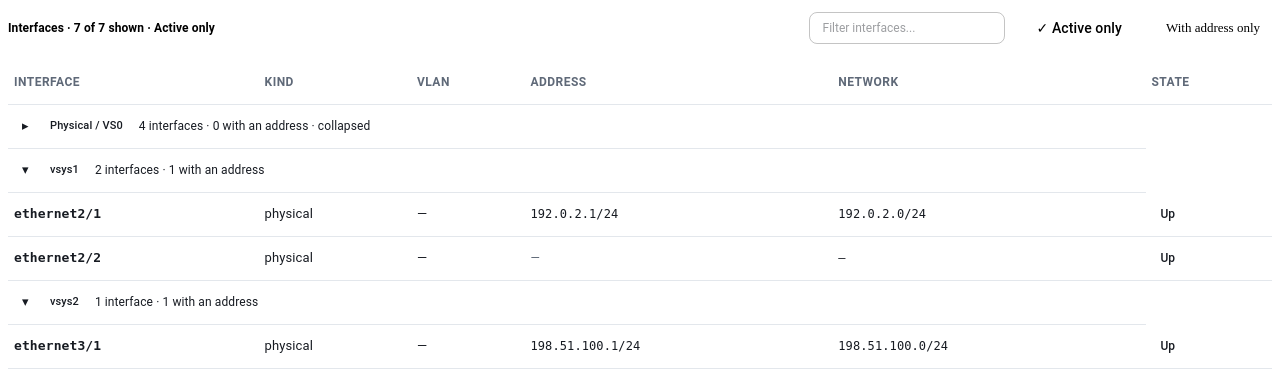
the With address only chip › restores every row when switched off again
The image size is (1280, 386).
Click the button "With address only". click: (1213, 28)
box: [1154, 12, 1272, 44]
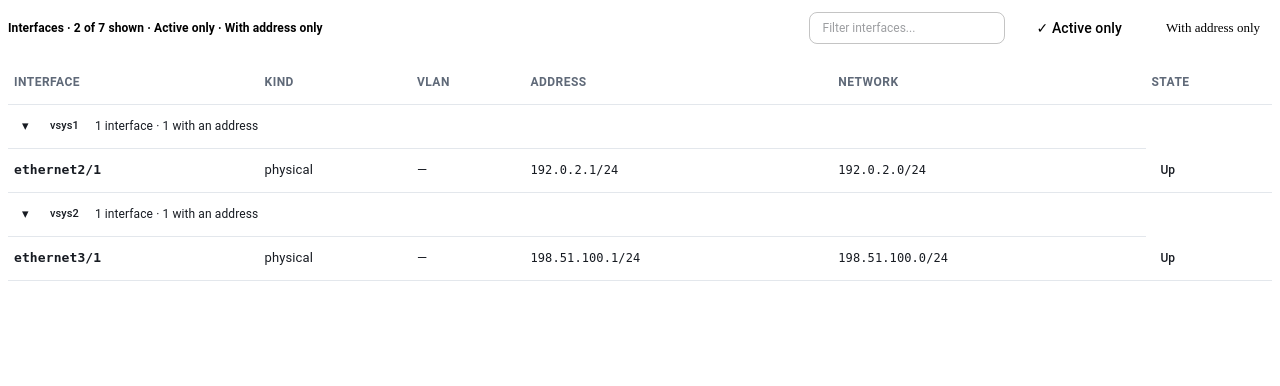
Click the button "With address only". click: (1213, 28)
box: [1154, 12, 1272, 44]
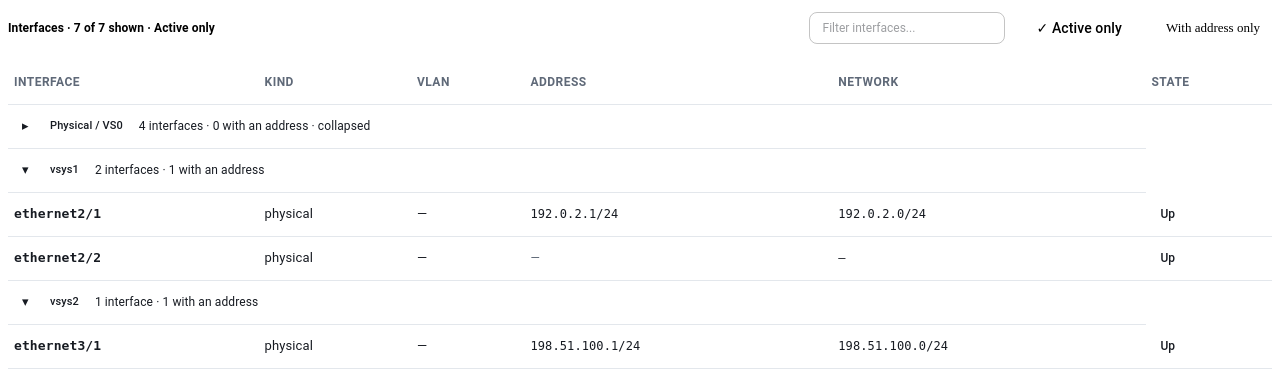
Check: the text "Interfaces · 7 of 7 shown · Active only" is shown, box [8, 20, 215, 36]
Check: the text "ethernet2/2" is shown, box [8, 236, 259, 280]
